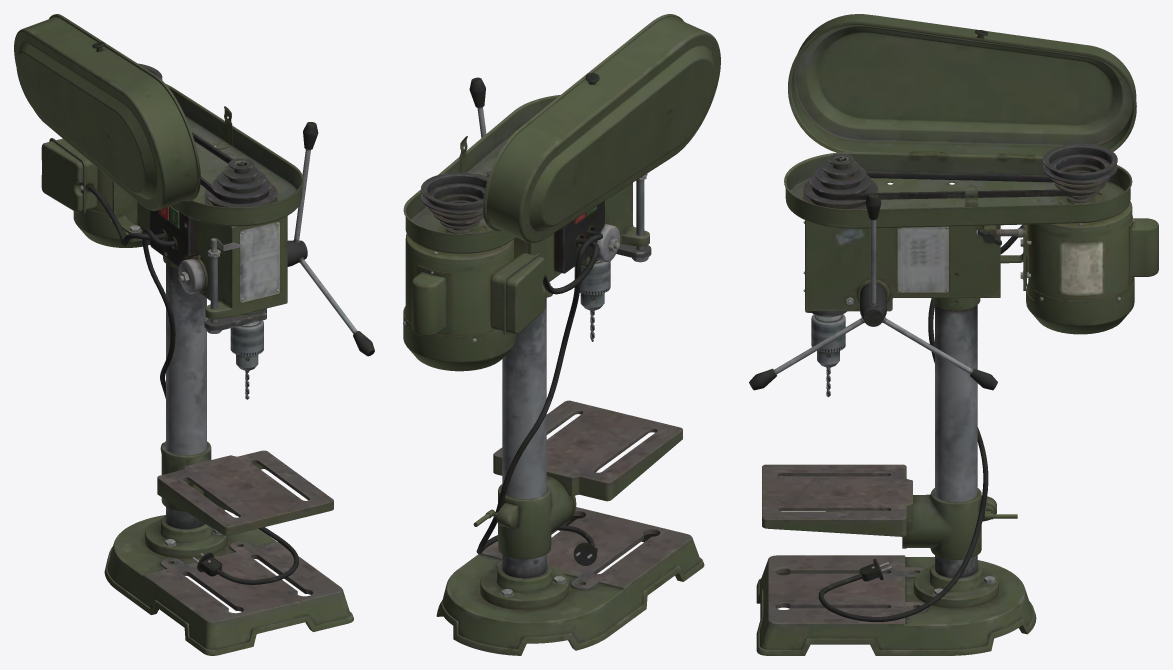
File: drill_press_01.glb
The picture shows the model from 3 angles, left to right: view 1: azimuth 30°, elevation 25°; view 2: azimuth 150°, elevation 25°; view 3: azimuth 270°, elevation 25°; orthographic projection. The views are drawn at different scales.
Parts seen in each view (by area): view 1: drill_press_01; view 2: drill_press_01; view 3: drill_press_01.
Boxes of the visible parts, x1,y1,x2,y2 form: drill_press_01: (14,14,374,655); drill_press_01: (403,14,720,655); drill_press_01: (749,14,1158,655).
Bounding box in the file's own units: 0.3544 × 0.9011 × 0.5988.
Materials: 1 (1 with a texture image).
